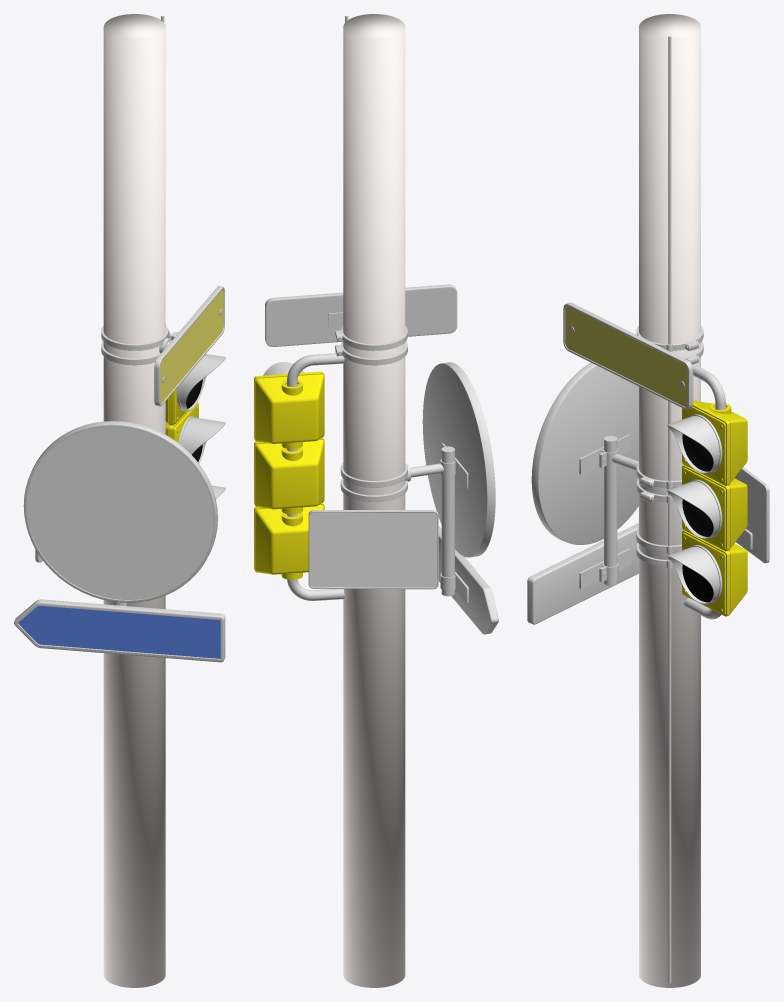
File: signal-pole.glb
3 views of the same model, side by side, from view 1: azimuth 30°, elevation 25°; view 2: azimuth 150°, elevation 25°; view 3: azimuth 270°, elevation 25° (orthographic).
Parts seen in each view (by area): view 1: signal_pole, Cylinder.001, Cube.003, Cube, Cube.010, Cylinder.032; view 2: signal_pole, Cube.010, Cube.004, Cylinder.001, Cube, Cube.003, Cylinder.004, Cube.001, Cylinder.032, Cylinder.008; view 3: signal_pole, Cylinder.001, Cube.010, Cube, Cube.003, BézierCurve, Cube.004, Cylinder.004, Cube.001, Cylinder.008, Cube.008, Cube.002 (+2 smaller).
Boxes of the visible parts, <box> form: signal_pole: <box>103,14,165,987</box>; Cylinder.001: <box>23,421,217,602</box>; Cube.003: <box>14,599,225,662</box>; Cube: <box>154,286,224,406</box>; Cube.010: <box>165,354,225,498</box>; Cylinder.032: <box>101,326,168,365</box>; signal_pole: <box>343,14,405,987</box>; Cube.010: <box>254,362,324,579</box>; Cube.004: <box>308,510,438,589</box>; Cylinder.001: <box>422,362,495,557</box>; Cube: <box>265,284,457,346</box>; Cube.003: <box>438,526,498,634</box>; Cylinder.004: <box>441,446,454,596</box>; Cube.001: <box>287,353,344,600</box>; Cylinder.032: <box>335,326,407,365</box>; Cylinder.008: <box>340,463,407,501</box>; signal_pole: <box>639,14,700,987</box>; Cylinder.001: <box>531,362,638,544</box>; Cube.010: <box>666,400,747,616</box>; Cube: <box>563,302,693,409</box>; Cube.003: <box>527,523,638,624</box>; BézierCurve: <box>668,36,671,983</box>; Cube.004: <box>734,467,769,563</box>; Cylinder.004: <box>604,436,617,585</box>; Cube.001: <box>684,364,725,619</box>; Cylinder.008: <box>636,463,681,502</box>; Cube.008: <box>579,548,630,588</box>; Cube.002: <box>579,434,630,474</box>.
Bounding box in the file's own units: 0.3966 × 1.62 × 0.3744.
